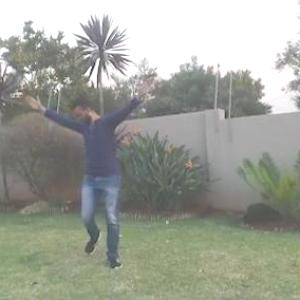takeoff: (19, 79, 171, 281)
